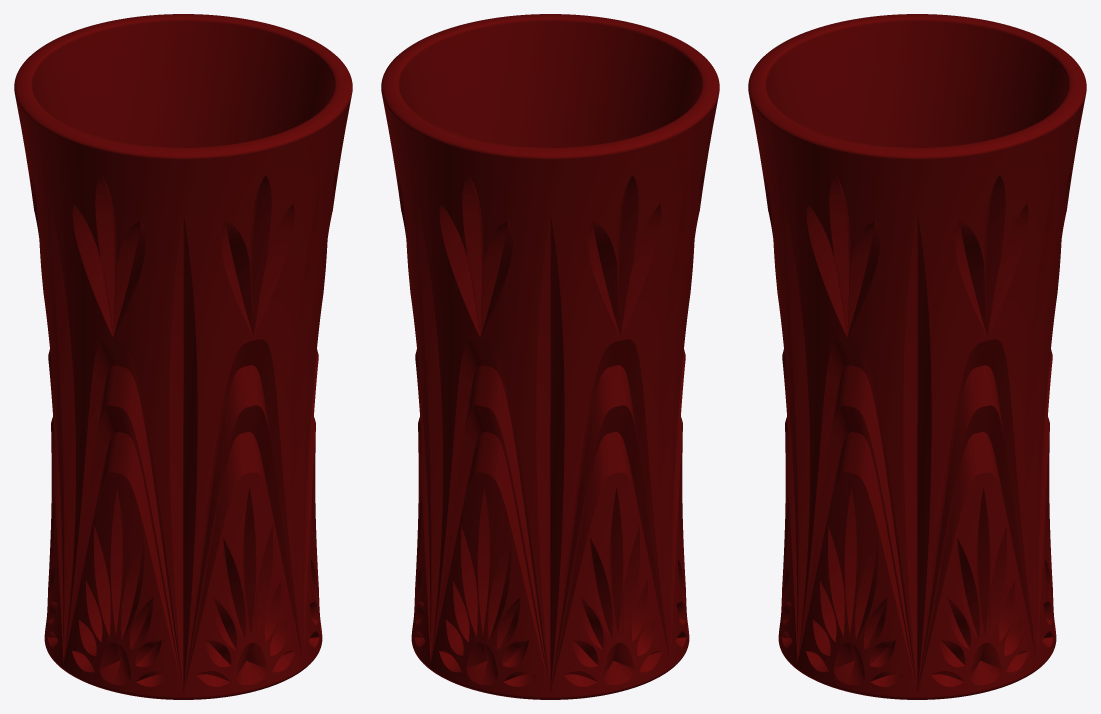
File: Flora1.glb
The picture shows the model from 3 angles, left to right: view 1: azimuth 30°, elevation 25°; view 2: azimuth 150°, elevation 25°; view 3: azimuth 270°, elevation 25°; orthographic projection.
Size of the model in its own units: 0.068 by 0.1243 by 0.068.
